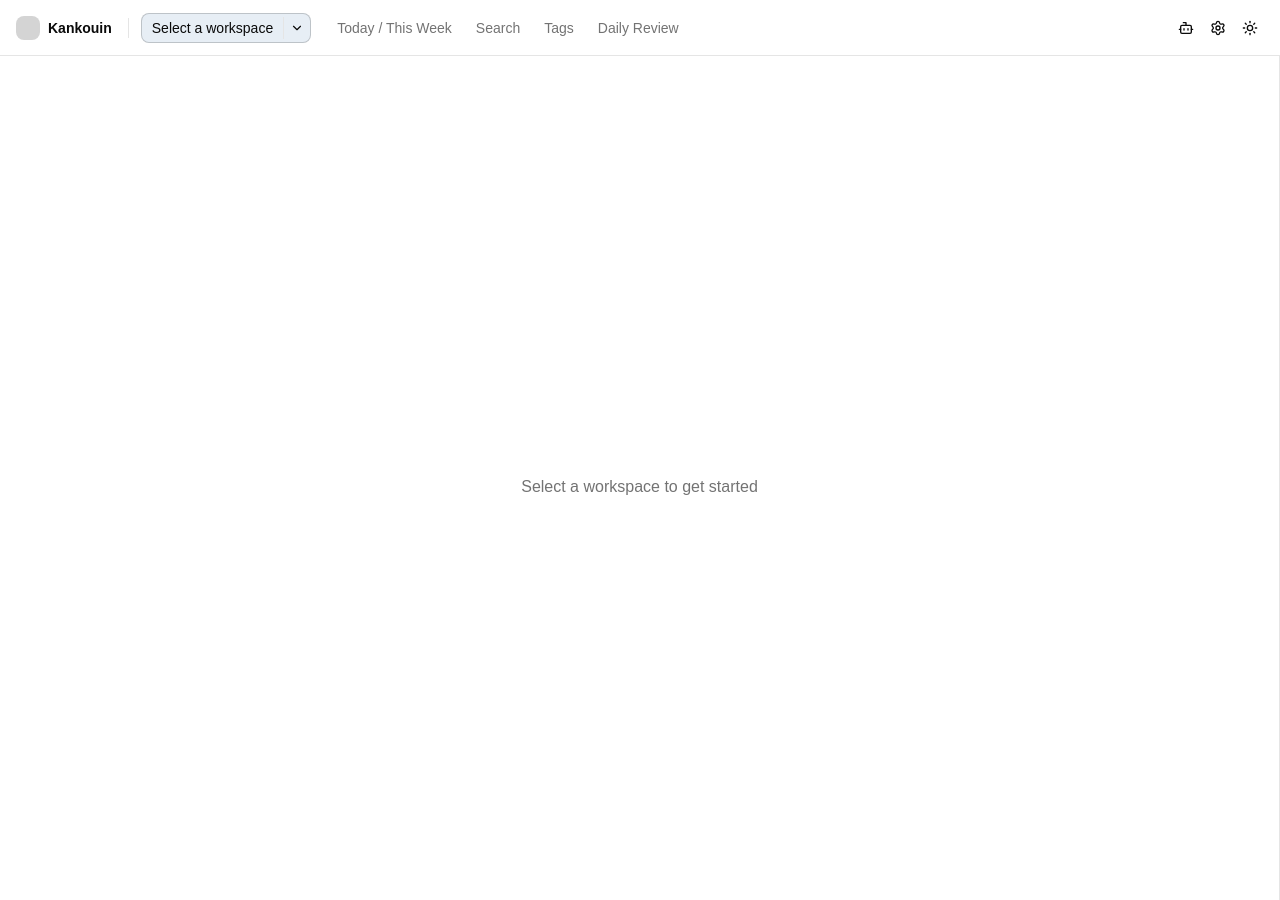
Test: App view navigation › switching back to Today hides TagsView
Expected: the text "Select a workspace to get started" is shown, left=521, top=475, right=758, bottom=499
Click the button "Tags".
click(559, 28)  # box left=534, top=12, right=584, bottom=44
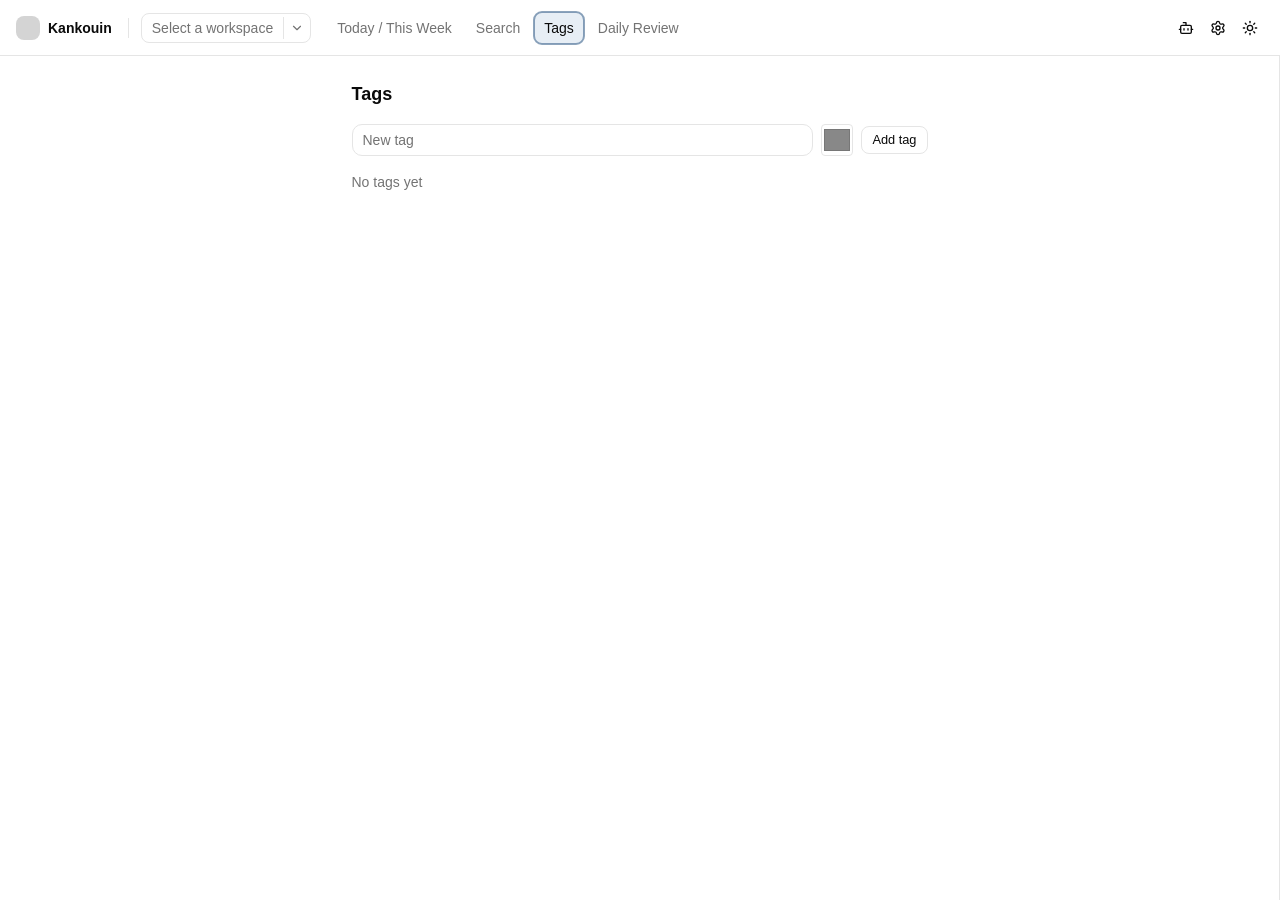
Expected: the heading "Tags" is shown, left=352, top=84, right=392, bottom=104
Click the button "Today / This Week".
click(395, 28)  # box left=327, top=12, right=462, bottom=44
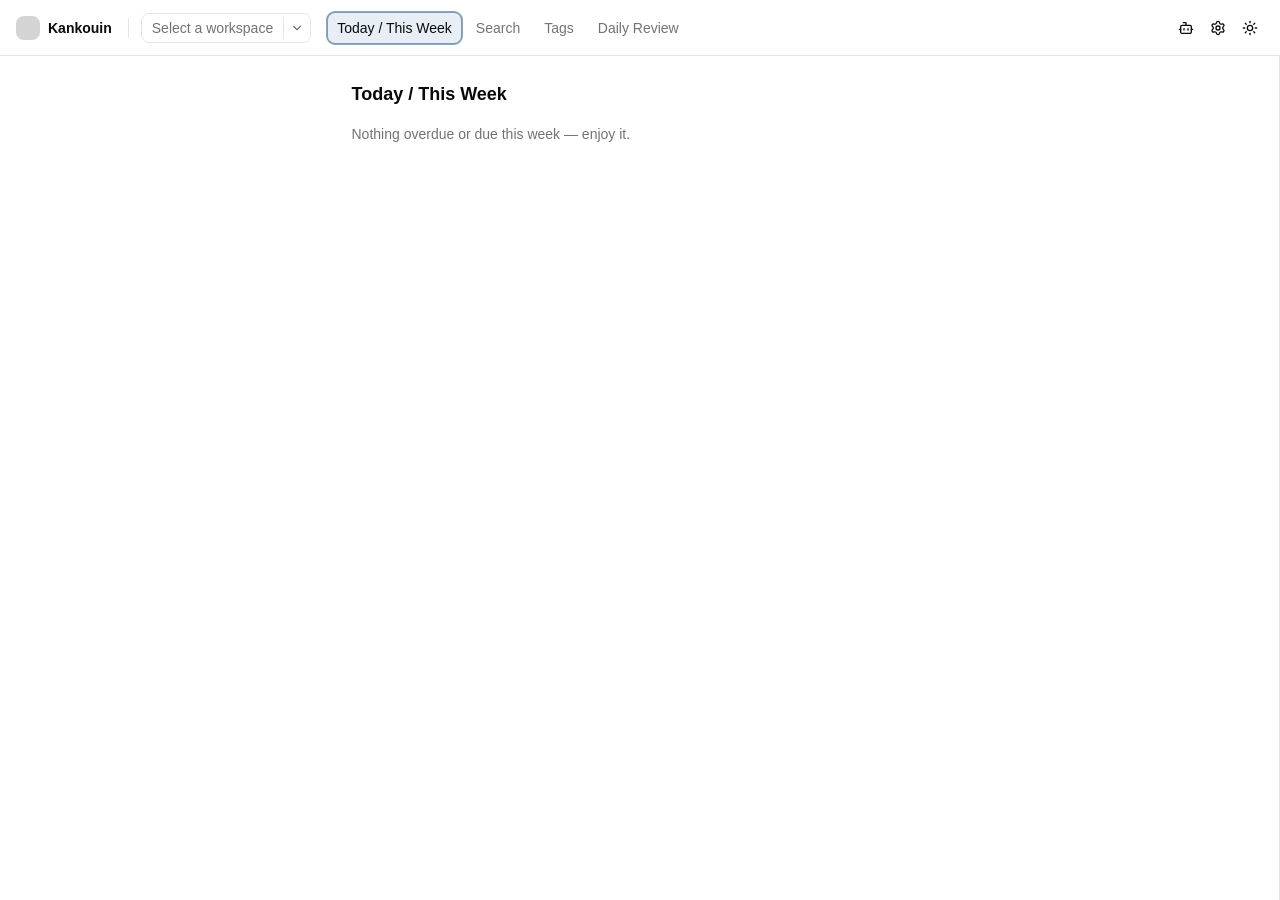
Expected: the heading "Today / This Week" is shown, left=352, top=80, right=507, bottom=108
